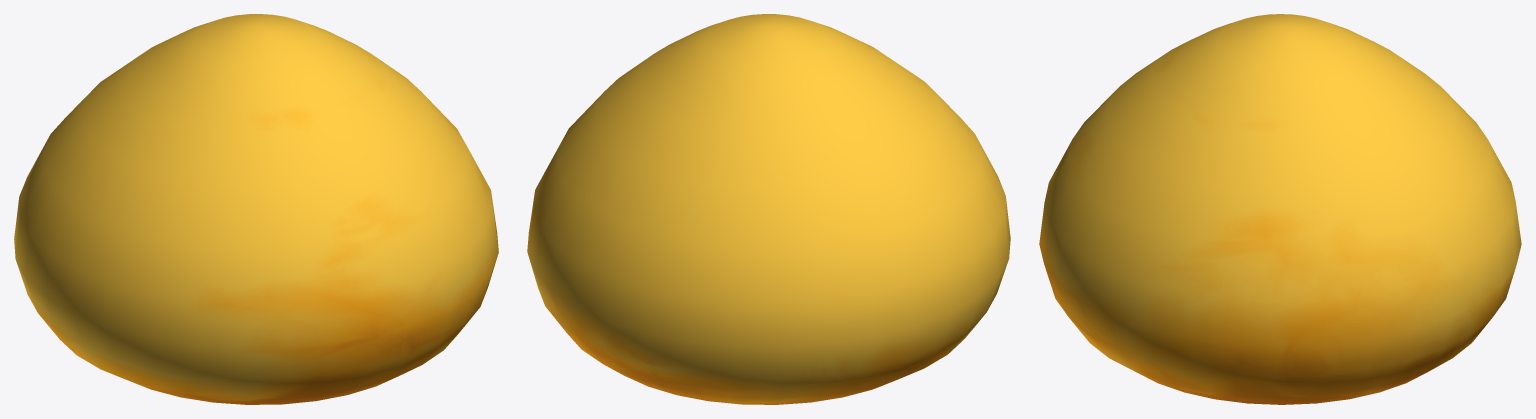
The model's file is slimeBody_yellow.gltf.
3 renders of one model, left to right at view 1: azimuth 30°, elevation 25°; view 2: azimuth 150°, elevation 25°; view 3: azimuth 270°, elevation 25°, orthographic.
Visible parts, largest first — view 1: Slime_Slime_0.001, Slime_Slime_0; view 2: Slime_Slime_0.001, Slime_Slime_0; view 3: Slime_Slime_0.001, Slime_Slime_0.
Boxes of the visible parts, x1,y1,x2,y2 form: Slime_Slime_0.001: [14, 85, 498, 404]; Slime_Slime_0: [82, 14, 429, 188]; Slime_Slime_0.001: [527, 85, 1010, 404]; Slime_Slime_0: [596, 14, 942, 187]; Slime_Slime_0.001: [1039, 87, 1521, 404]; Slime_Slime_0: [1107, 14, 1453, 186].
Bounding box in the file's own units: 1.03 × 0.7421 × 1.03.
Materials: 1 (1 with a texture image).
